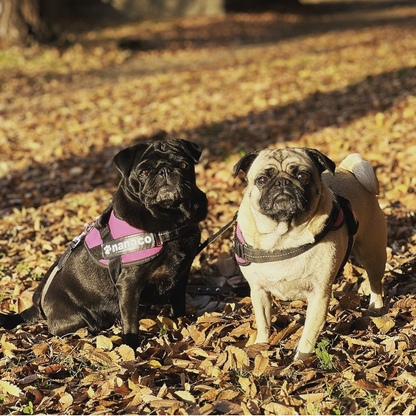Pug: (1, 132, 214, 347), (225, 139, 394, 353)
